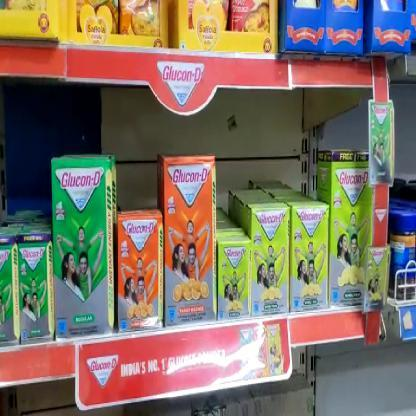Glucon D Nimbu Pani 1-KG: (330, 152, 376, 314), (252, 207, 290, 320), (292, 207, 327, 312)
Glucon D Regular 1-KG: (54, 156, 108, 335)
Glucon D Tangy orange 1-KG: (164, 157, 214, 330)
